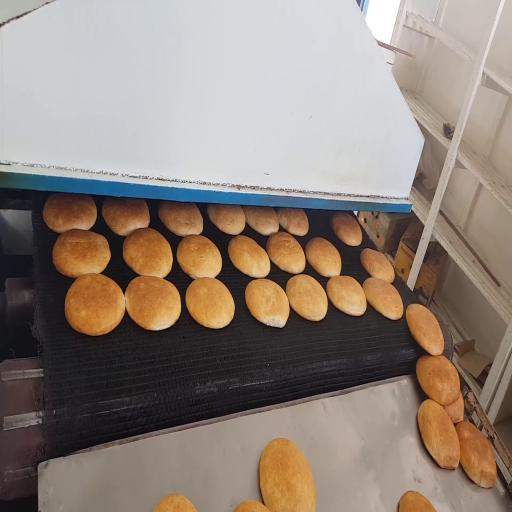bread: (260, 439, 315, 511), (65, 274, 125, 336), (125, 276, 181, 330), (418, 400, 459, 469), (53, 229, 110, 277), (455, 422, 497, 487), (123, 228, 173, 277), (186, 278, 234, 329), (43, 193, 97, 233), (416, 356, 460, 405), (245, 279, 289, 327), (406, 304, 444, 355), (177, 235, 221, 278), (286, 275, 327, 321), (102, 198, 150, 236), (228, 235, 270, 278), (363, 278, 403, 319), (267, 232, 305, 274), (327, 276, 366, 316), (159, 202, 203, 236), (305, 238, 341, 277), (360, 248, 394, 283), (207, 204, 245, 235), (331, 212, 362, 246), (243, 206, 278, 236), (277, 209, 309, 236), (399, 491, 435, 511), (154, 495, 196, 511), (443, 394, 464, 423), (235, 501, 269, 511)
